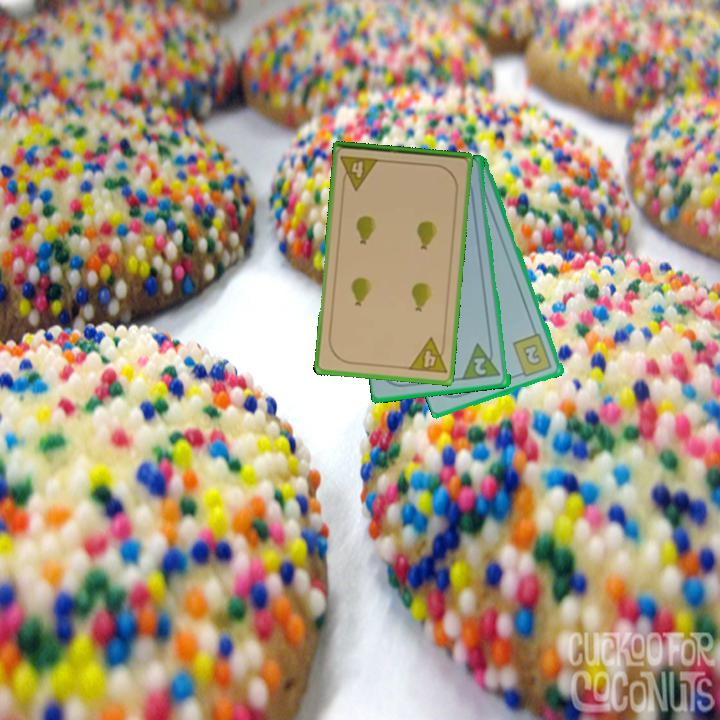2b: (510, 331, 555, 380)
2p: (471, 354, 490, 378)
4p: (405, 334, 450, 376), (337, 152, 382, 193)
